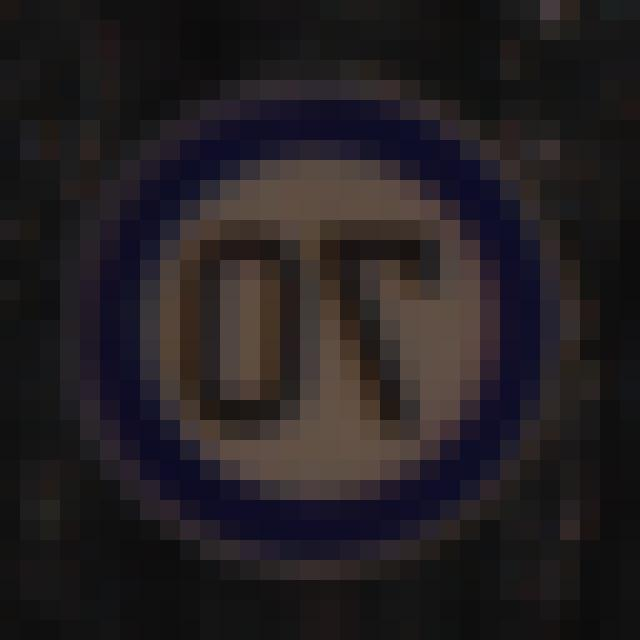SPEED LIMIT 70: (72, 111, 552, 554)
